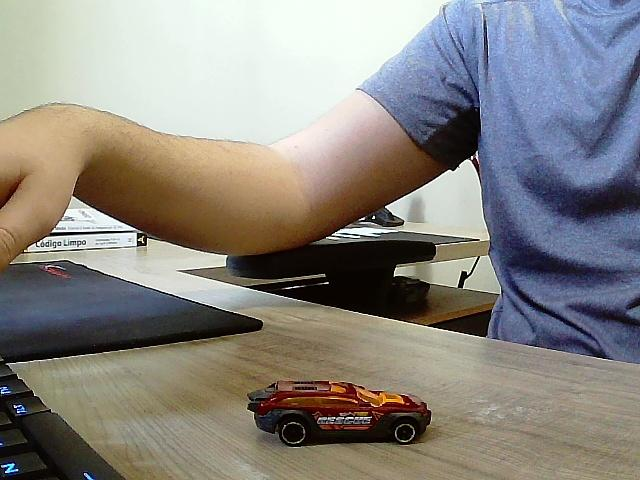Carro: (247, 381, 431, 448)
